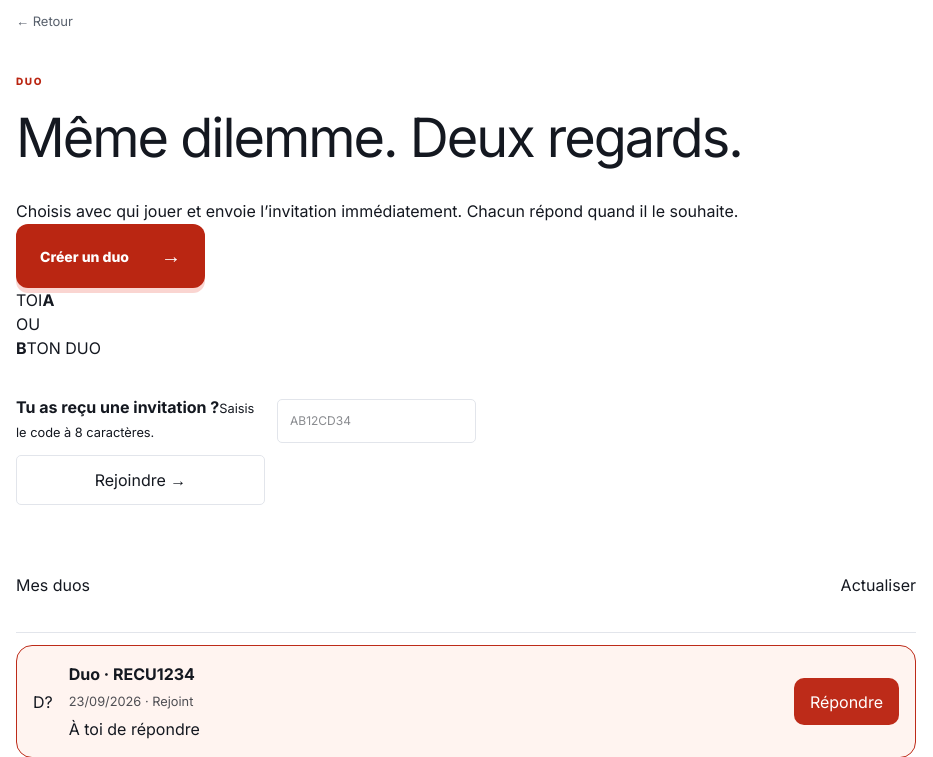
Test: lance directement un Duo reçu depuis Mes duos
What coordinates should you click on to do the following:
click the button with aria-label "Lancer le Duo RECU1234"
I would click on:
 (91, 674)
Its box is [69, 662, 778, 741].
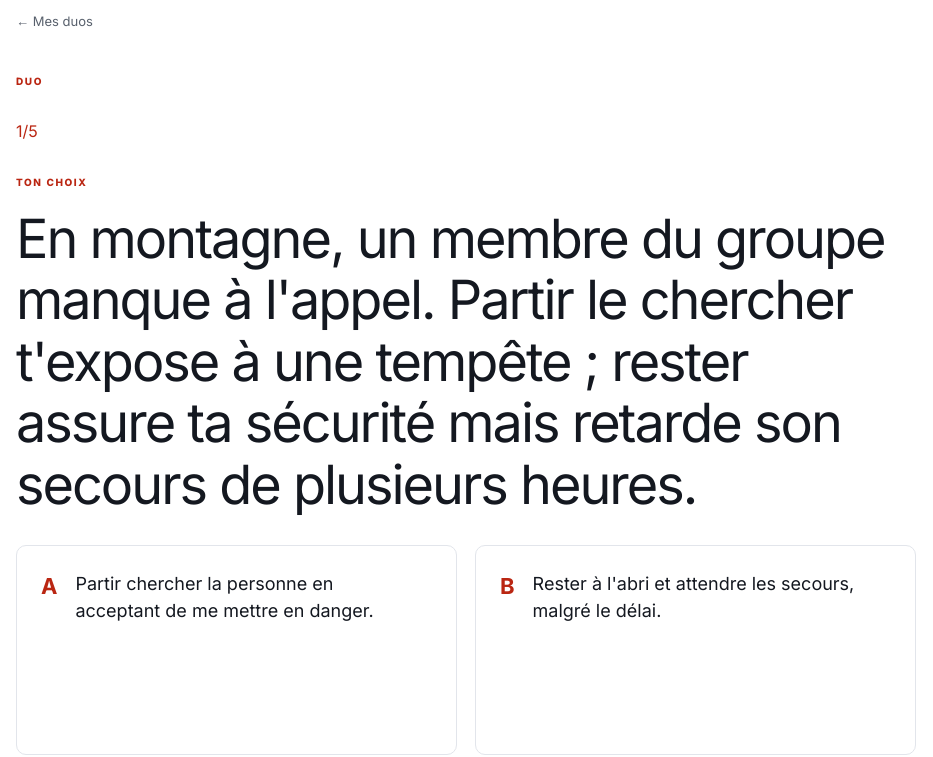
Expected: the text "Ton choix" is shown, [16, 176, 88, 188]
